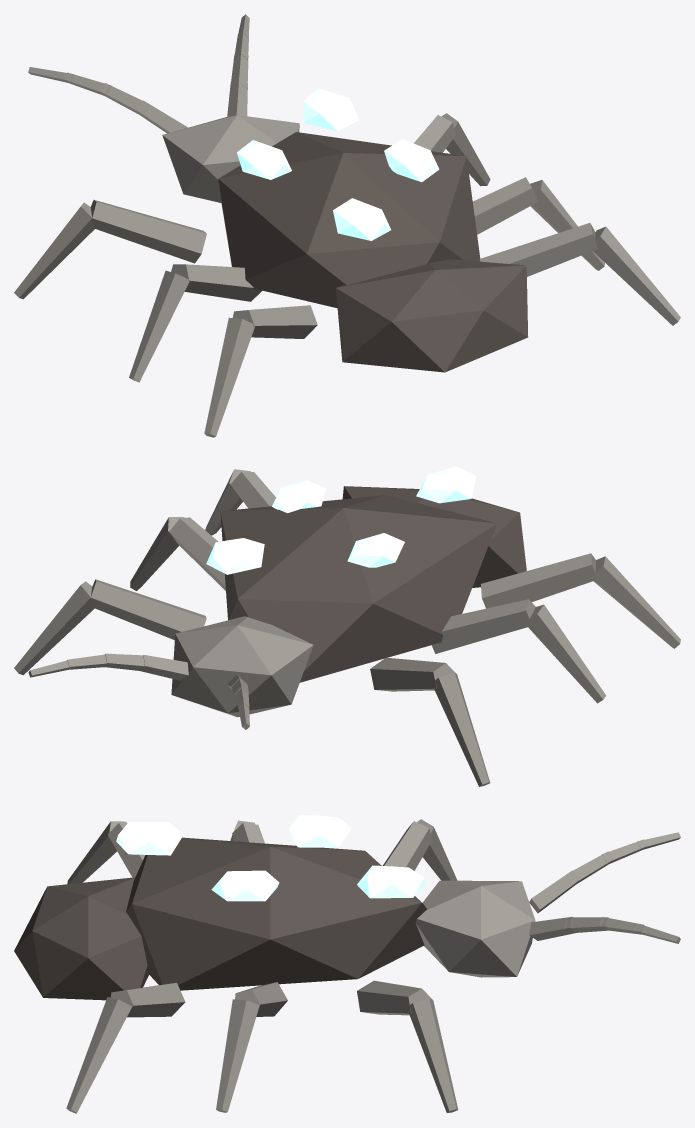
The model's file is glow_beetle.glb.
The picture shows the model from 3 angles, top to bottom: view 1: azimuth 30°, elevation 25°; view 2: azimuth 150°, elevation 25°; view 3: azimuth 270°, elevation 25°; orthographic projection.
Parts seen in each view (by area): view 1: model; view 2: model; view 3: model.
Part boxes in pixels (x1=…): model: x1=14, y1=14, x2=680, y2=437; model: x1=14, y1=466, x2=680, y2=786; model: x1=14, y1=815, x2=680, y2=1113.
Bounding box in the file's own units: 0.1346 × 0.0433 × 0.1647.
